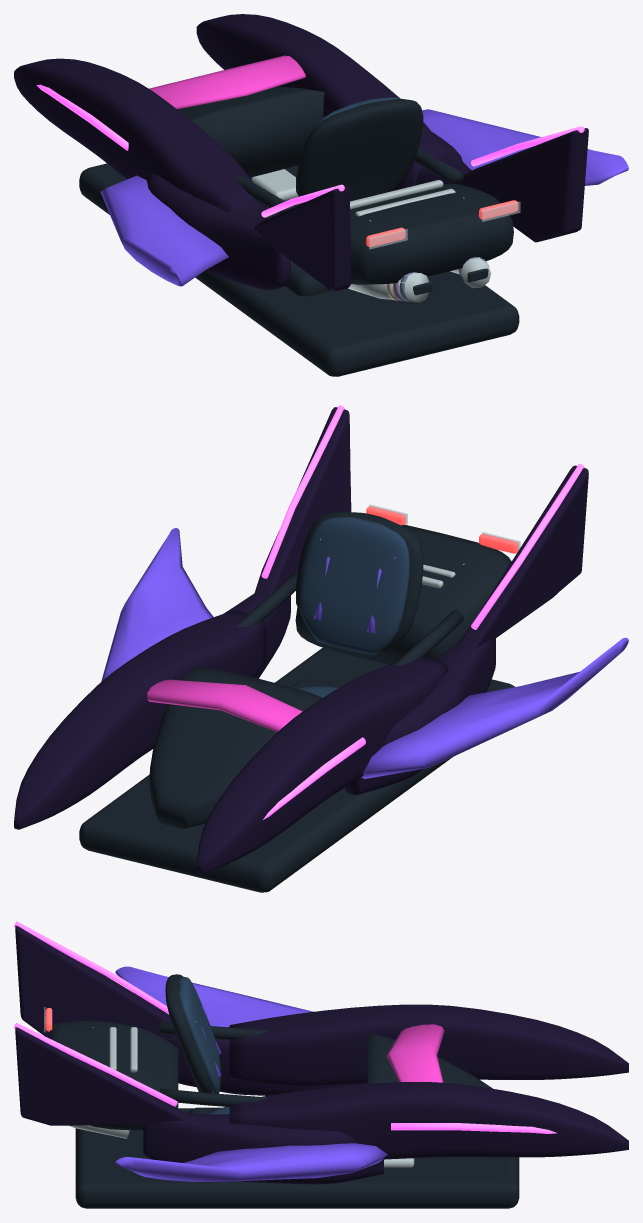
File: phantom.glb
3 views of the same model, one above another, from view 1: azimuth 30°, elevation 25°; view 2: azimuth 150°, elevation 25°; view 3: azimuth 270°, elevation 25° (orthographic). The views are drawn at different scales.
Visible parts, largest first — view 1: LOD0, ShowroomDetail; view 2: LOD0; view 3: LOD0.
Part boxes in pixels (x1=…): LOD0: x1=14, y1=14, x2=628, y2=376; ShowroomDetail: x1=369, y1=201, x2=520, y2=301; LOD0: x1=14, y1=405, x2=628, y2=892; LOD0: x1=14, y1=921, x2=628, y2=1208.
Size of what is drawn, in the model's own units: 1.93 by 0.9388 by 2.63.
